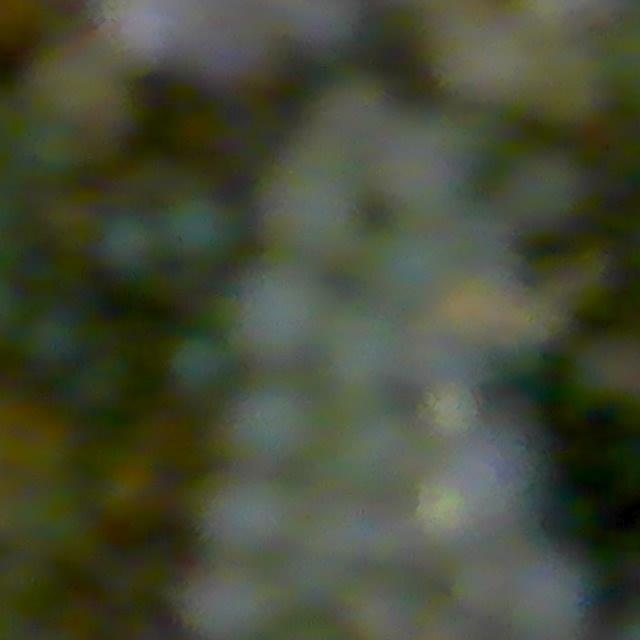SeaGrape: (324, 403, 426, 503), (444, 4, 535, 112), (267, 155, 356, 259), (222, 377, 316, 465), (189, 562, 295, 640), (216, 274, 310, 361), (499, 147, 591, 235), (449, 441, 529, 538), (198, 482, 286, 555), (504, 562, 583, 640), (340, 319, 413, 401), (160, 189, 237, 264), (185, 9, 263, 81), (428, 319, 492, 404), (331, 89, 398, 165), (440, 213, 516, 280), (20, 302, 92, 370), (367, 237, 429, 313), (95, 209, 159, 277), (109, 0, 173, 65), (544, 32, 591, 117), (168, 334, 229, 393), (449, 555, 507, 614), (288, 0, 352, 40)
